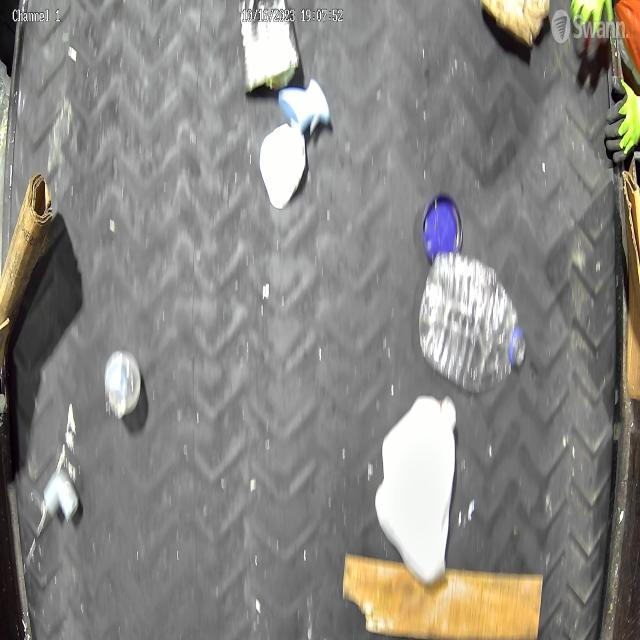can: (239, 0, 301, 97)
milk_jug: (372, 383, 464, 586)
plastic_bottle: (413, 250, 526, 388)
